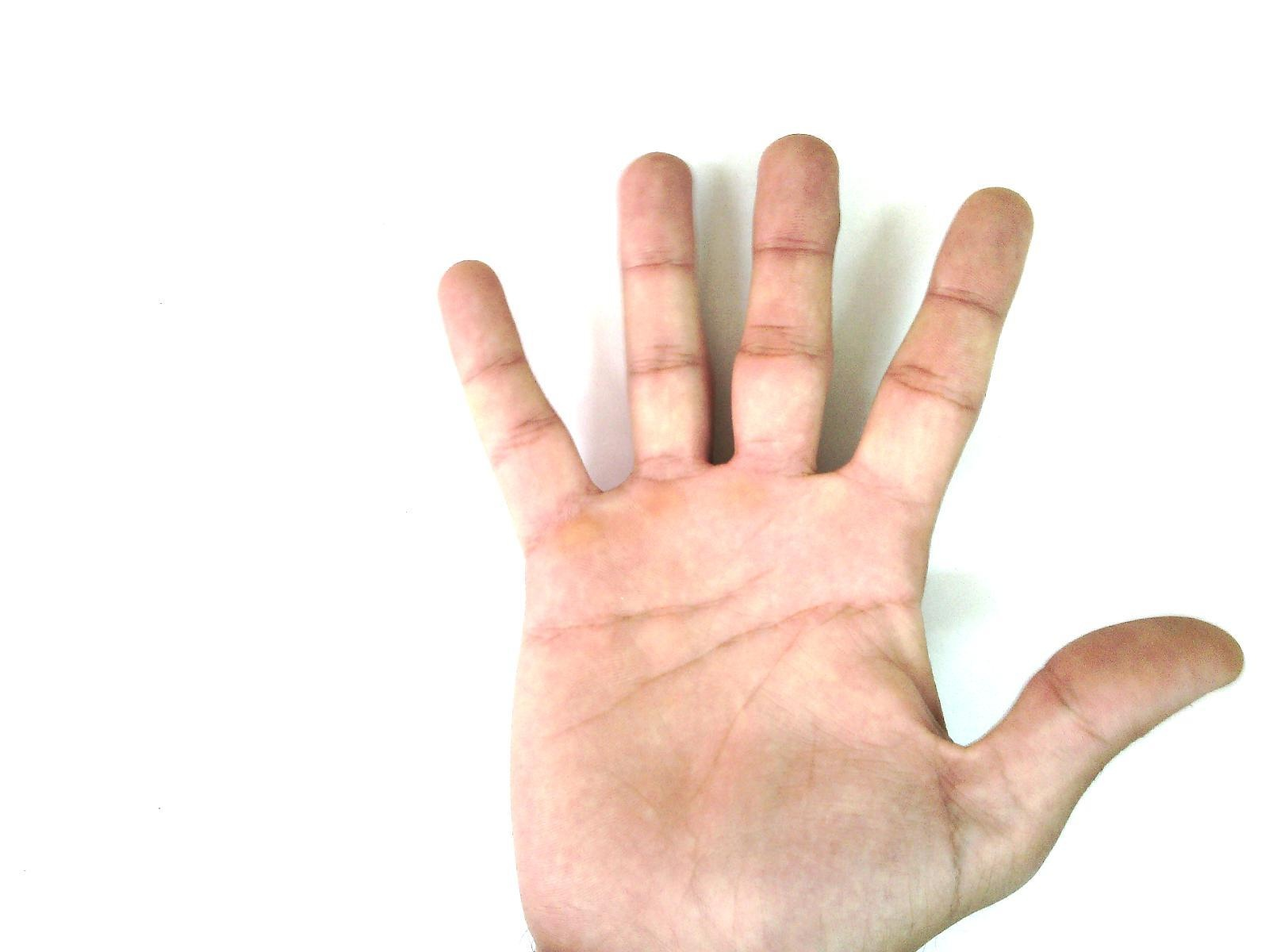open_palm: (434, 132, 1246, 951)
